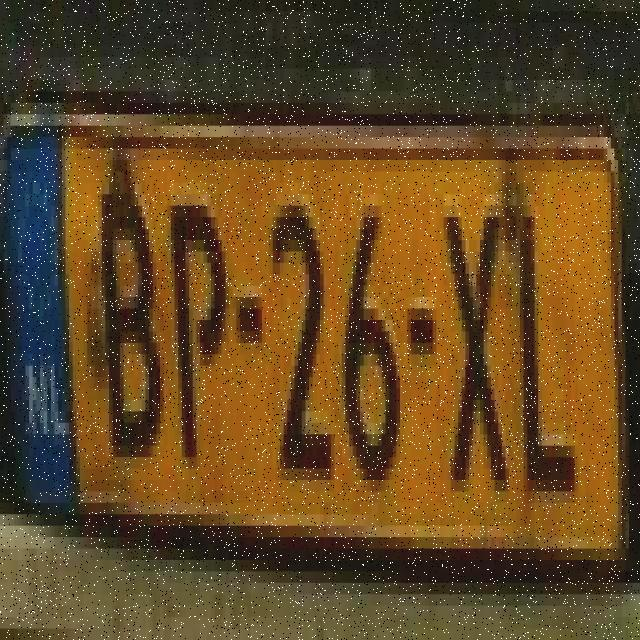licenseplate: (3, 58, 634, 590)
